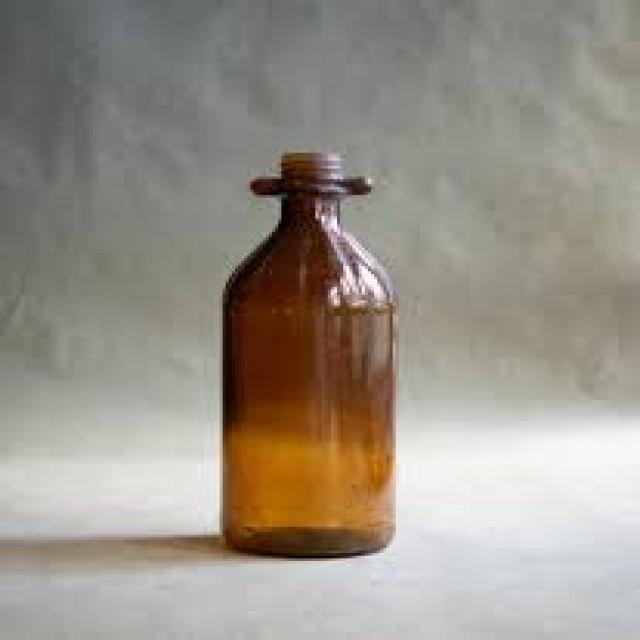glass: (220, 153, 396, 556)
metal: (282, 148, 344, 171)
